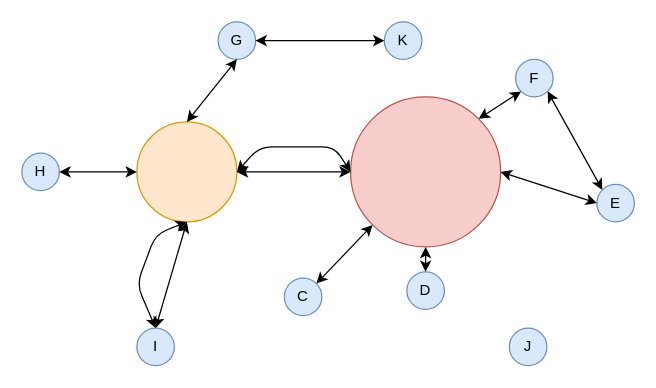
This 656x388 diagram has some shape labels left out. The shapes that lost their labels are listed below. From the top down, each one's box as (x1, y1, x2, y2) in pixels, then its label:
(136, 121, 237, 222): Node B
(349, 96, 501, 247): Node A
